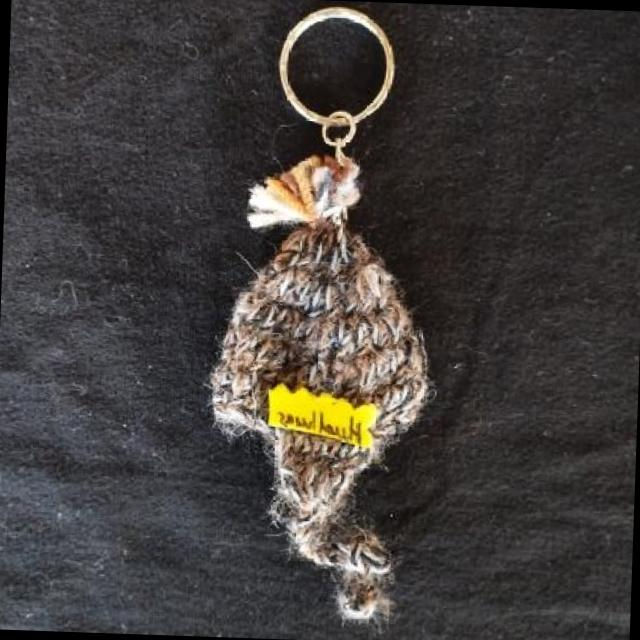Llavero: (198, 146, 440, 632)
